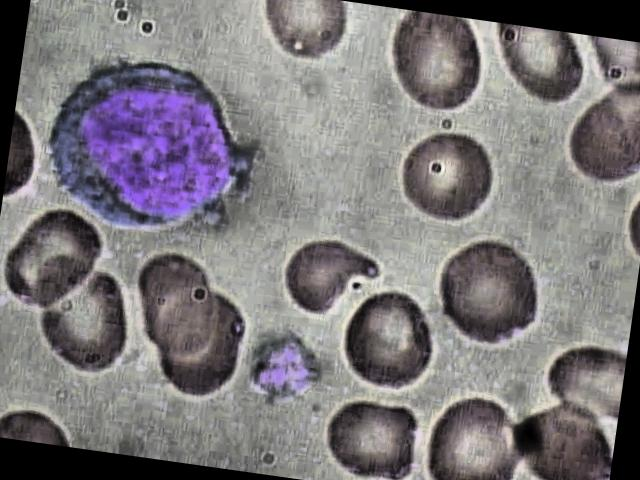RBC: (422, 222, 556, 356), (326, 280, 448, 402), (374, 7, 498, 122), (385, 123, 510, 230), (150, 288, 257, 408), (34, 262, 140, 382), (0, 202, 104, 322), (270, 232, 386, 338), (413, 389, 539, 480), (309, 388, 425, 480), (558, 71, 640, 191), (244, 0, 363, 76)
WBC: (28, 34, 278, 248)
